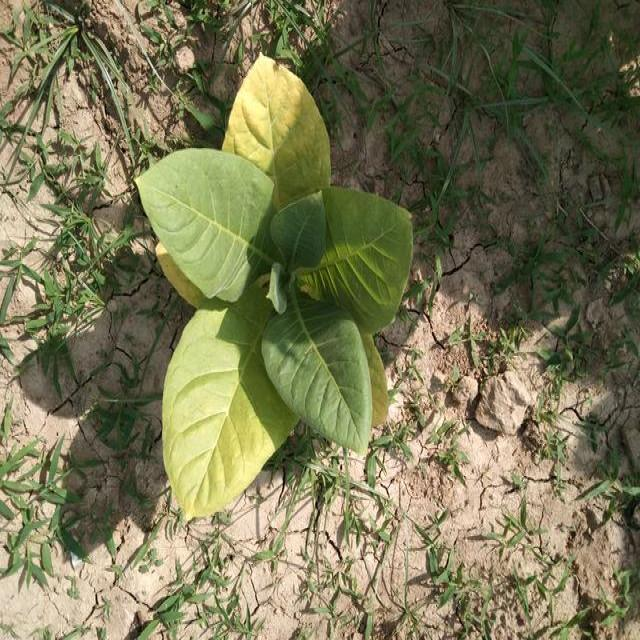crop: (138, 55, 406, 524)
